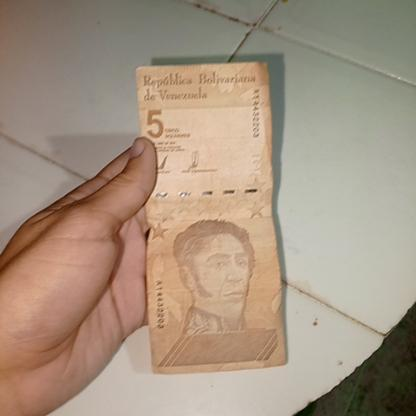five-front-vef: (136, 61, 282, 375)
